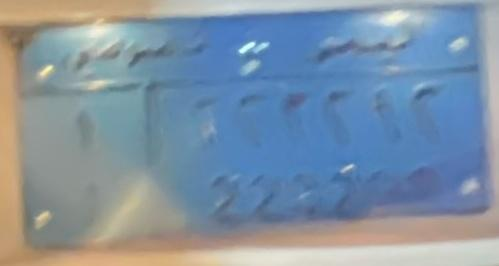city: (16, 87, 150, 246)
number: (150, 68, 486, 239)
text: (14, 6, 478, 93)
